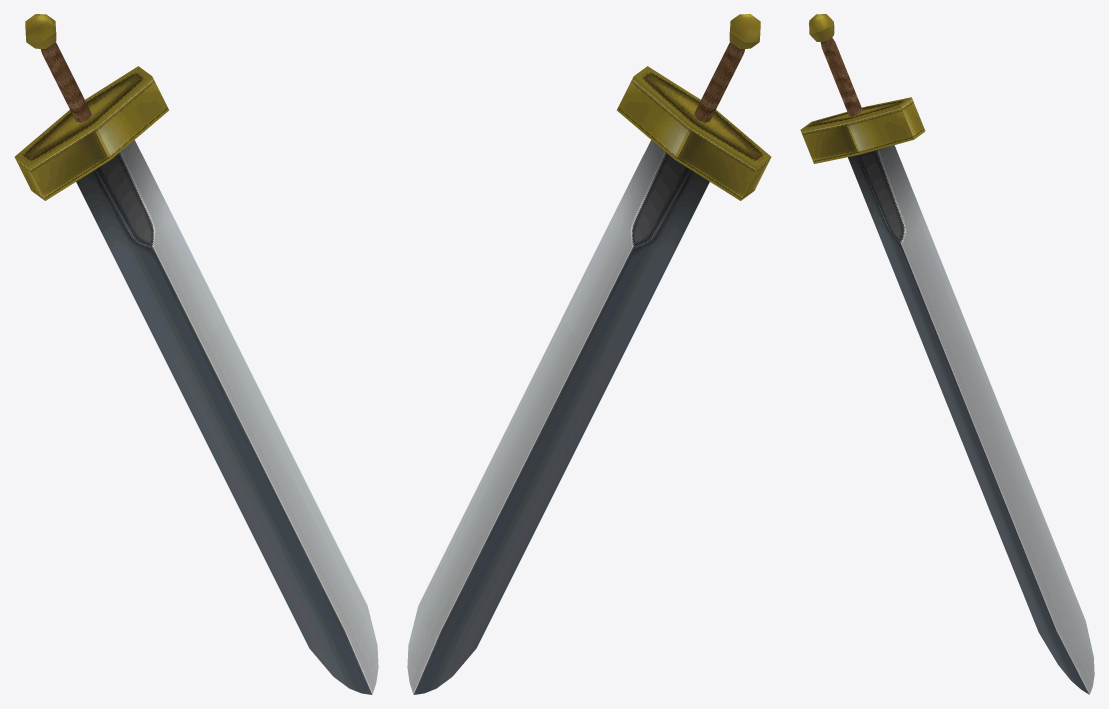
The model's file is ps2_save-icons_duelsaviordestiny.glb.
The picture shows the model from 3 angles, left to right: view 1: azimuth 30°, elevation 25°; view 2: azimuth 150°, elevation 25°; view 3: azimuth 330°, elevation 25°; orthographic projection. The views are drawn at different scales.
Parts seen in each view (by area): view 1: ICON.ICO; view 2: ICON.ICO; view 3: ICON.ICO.
Part boxes in pixels (<box>): ICON.ICO: <box>14,14,378,694</box>; ICON.ICO: <box>407,14,771,694</box>; ICON.ICO: <box>800,14,1094,694</box>.
Size of the model in its own units: 2.22 by 4.51 by 0.25.
Materials: 1 (1 with a texture image).
